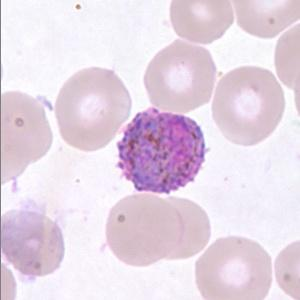Infected: (115, 107, 207, 193)
Uninfected: (54, 66, 131, 152), (210, 67, 284, 145), (143, 38, 216, 113), (106, 195, 180, 267), (0, 92, 52, 185), (197, 237, 273, 300), (156, 197, 212, 260), (169, 0, 234, 44)
